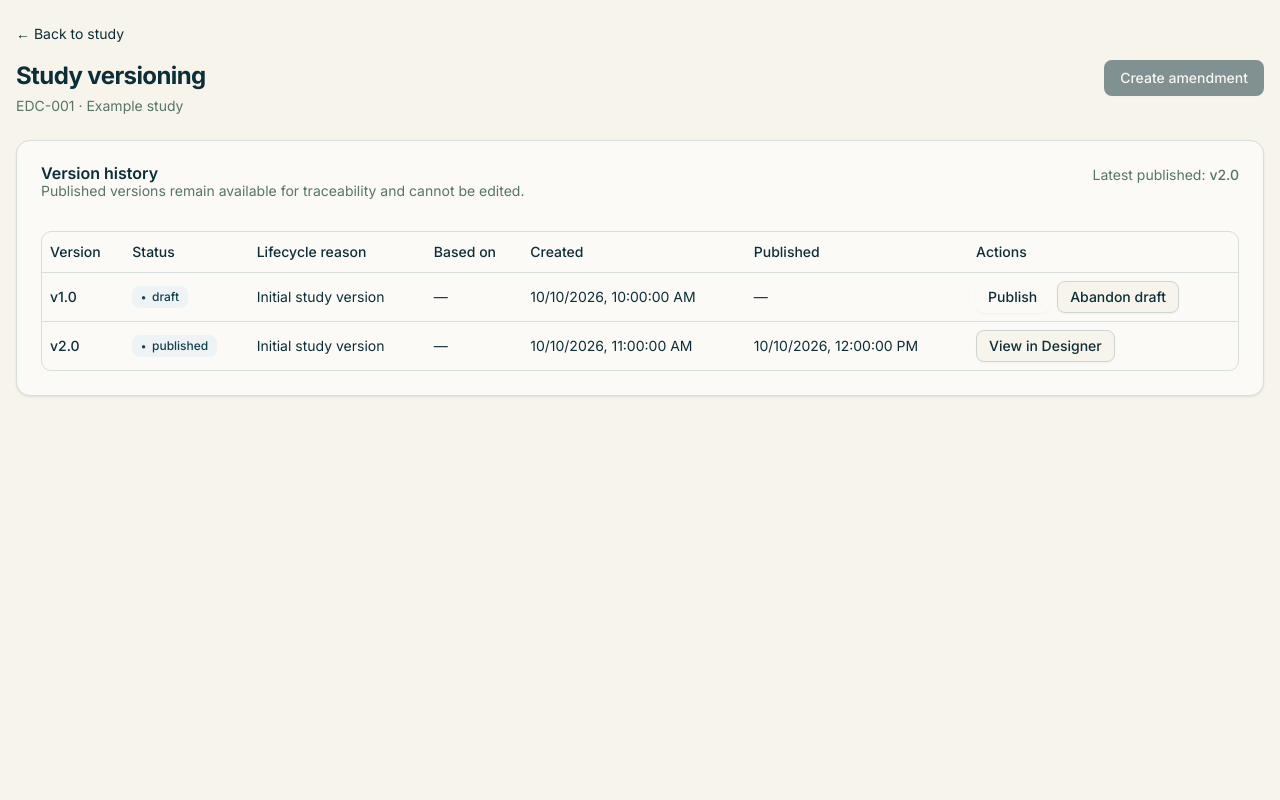
Test: StudyVersioningPage shared composition › abandons a draft with a required reason and retains it in version history
Click the button "Abandon draft" at coordinates (1118, 296), box x1=1057 y1=280 x2=1179 y2=312
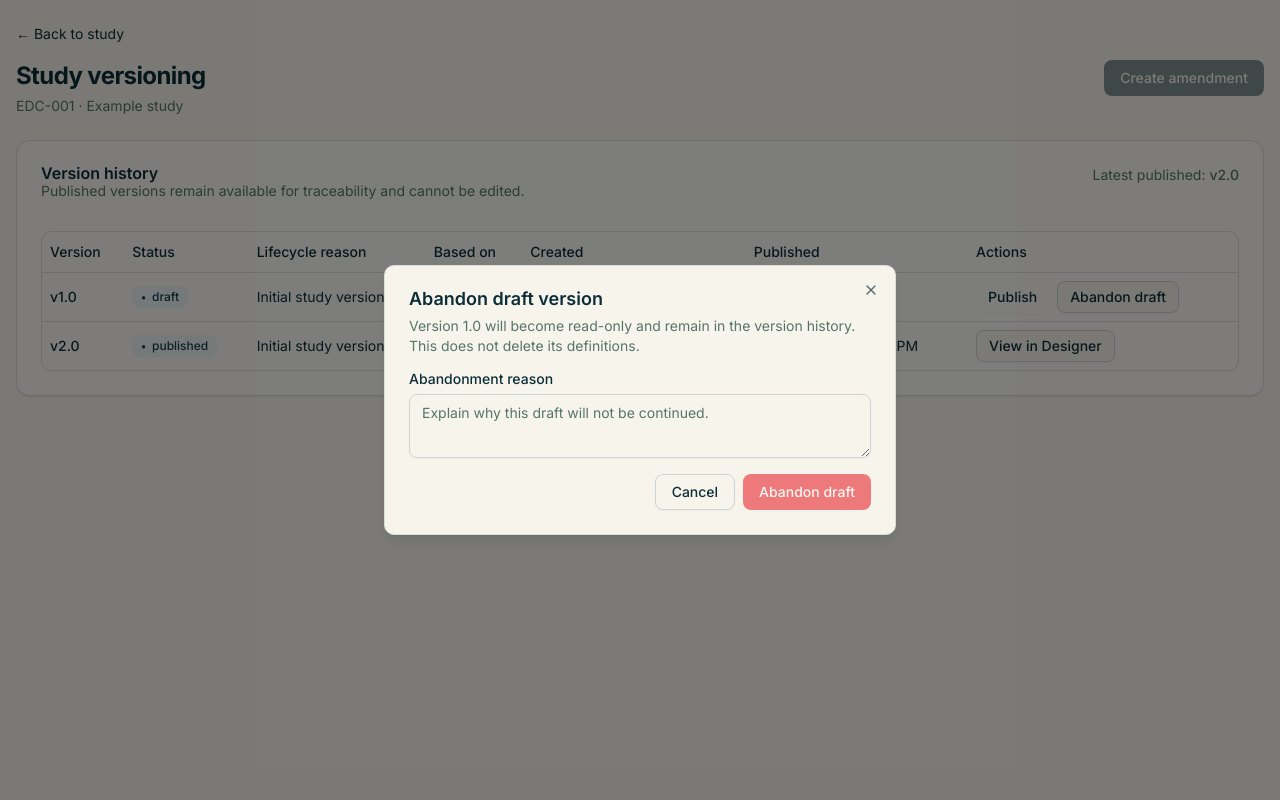
Result: the button "Abandon draft" is disabled at x1=743 y1=474 x2=871 y2=510
Type "Superseded by the validated ODM import." into the text box labelled "Abandonment reason" at coordinates (640, 426), box x1=409 y1=394 x2=871 y2=458
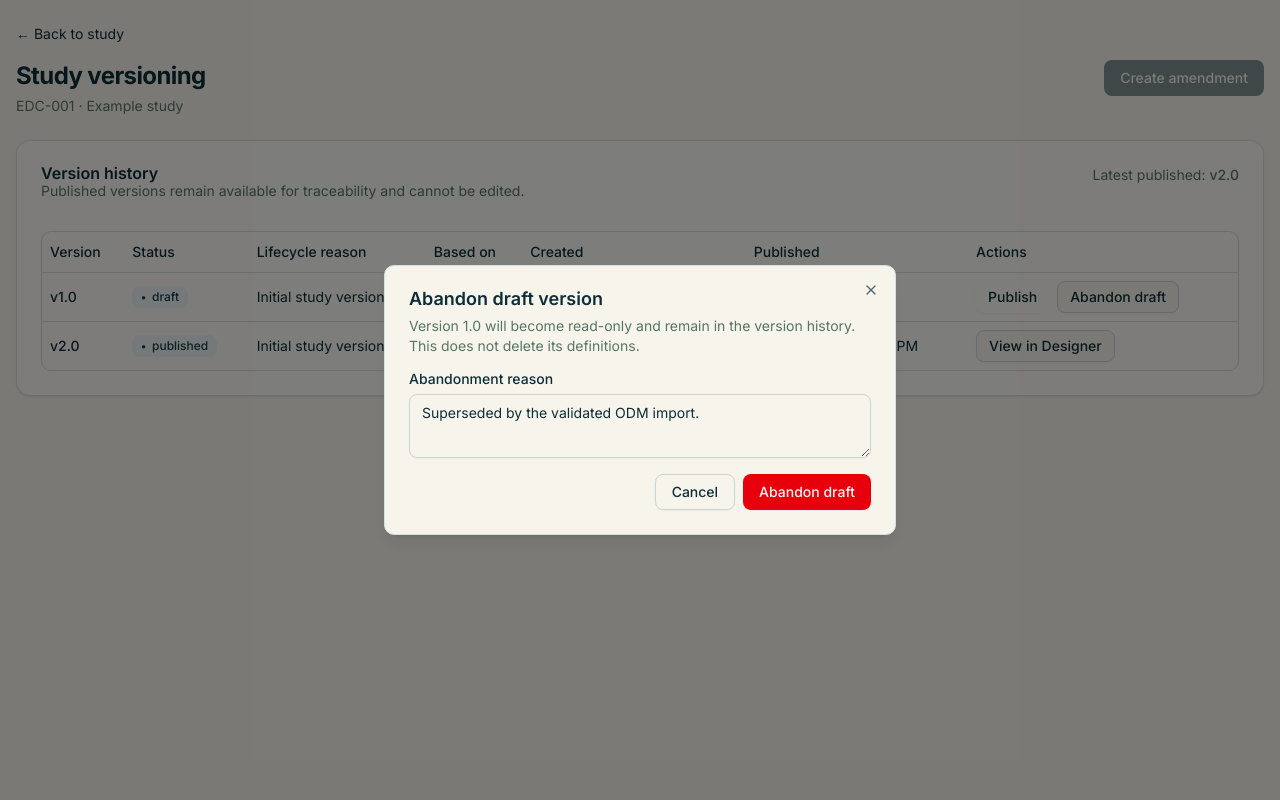
Click the button "Abandon draft" at coordinates (807, 492), box x1=743 y1=474 x2=871 y2=510
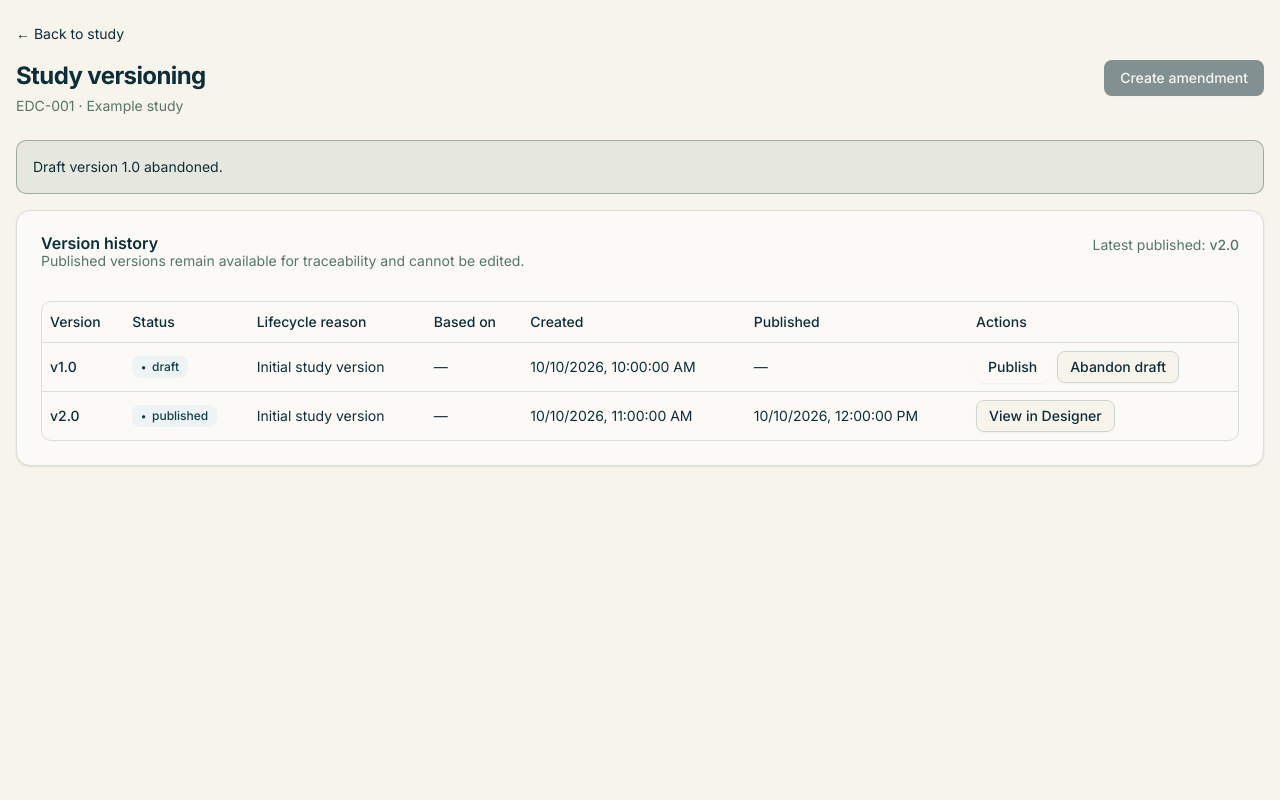
Result: the text "Draft version 1.0 abandoned." is shown at x1=33 y1=158 x2=223 y2=175
